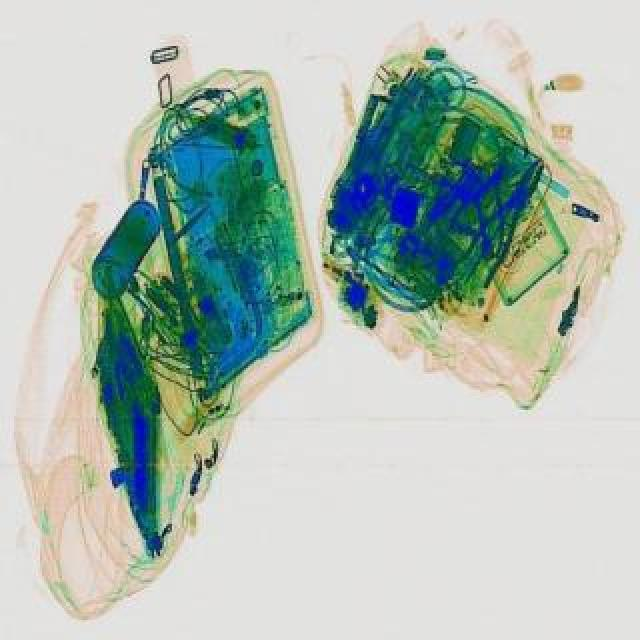wrench: (450, 152, 562, 294)
